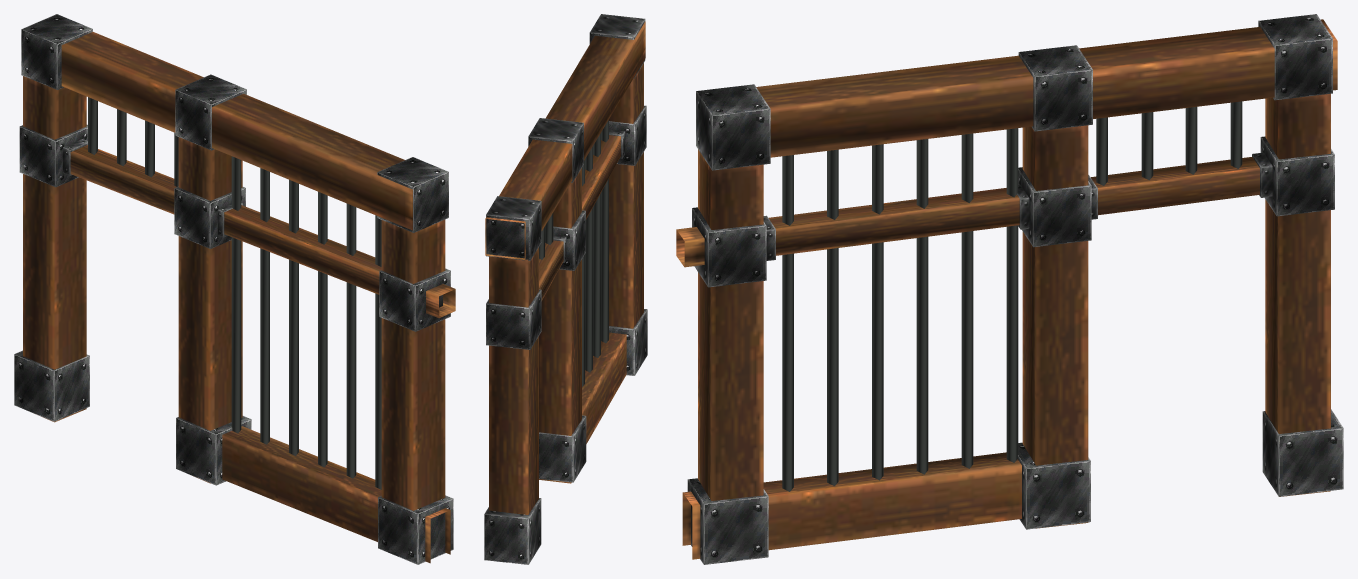
File: SWORDLIGHT20_JAILCELLBARS07.fbx
3 views of the same model, side by side, from view 1: azimuth 30°, elevation 25°; view 2: azimuth 150°, elevation 25°; view 3: azimuth 270°, elevation 25° (orthographic). The views are drawn at different scales.
Parts seen in each view (by area): view 1: SWORDLIGHT20_JAILCELLBARS07; view 2: SWORDLIGHT20_JAILCELLBARS07; view 3: SWORDLIGHT20_JAILCELLBARS07.
Part boxes in pixels (box(x1,y1,x2,y2)): SWORDLIGHT20_JAILCELLBARS07: box(14, 14, 455, 564); SWORDLIGHT20_JAILCELLBARS07: box(484, 14, 647, 564); SWORDLIGHT20_JAILCELLBARS07: box(676, 14, 1343, 564).
Bounding box in the file's own units: 18291 × 37254 × 49617.
3 materials, 3 textured.
